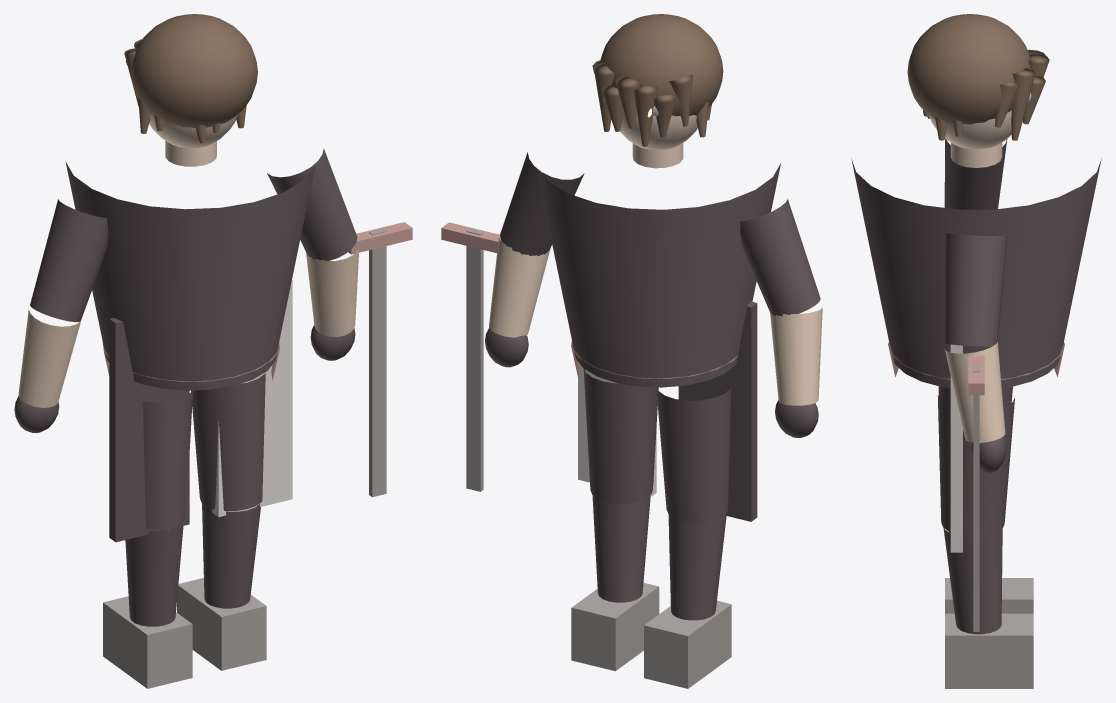
File: adeline-procedural-v1.glb
3 renders of one model, left to right at view 1: azimuth 30°, elevation 25°; view 2: azimuth 150°, elevation 25°; view 3: azimuth 270°, elevation 25°, orthographic. The views are drawn at different scales.
Visible parts, largest first — view 1: Outfit_Torso, Hair_Cap, Body_Thigh_R, Outfit_CoatTail_L, Body_UpperArm_L, Body_Thigh_L, Outfit_Boot_L, Outfit_CoatTail_R, Outfit_Boot_R, Body_Shin_R, Body_Shin_L, Weapon_SwordBlade (+8 smaller); view 2: Outfit_Torso, Body_Thigh_L, Body_Thigh_R, Hair_Cap, Outfit_CoatTail_L, Body_UpperArm_L, Outfit_Boot_L, Outfit_Boot_R, Body_Shin_R, Body_Shin_L, Weapon_SwordBlade, Body_Forearm_L (+14 smaller); view 3: Outfit_Torso, Hair_Cap, Body_UpperArm_R, Outfit_Boot_R, Body_Thigh_R, Body_Shin_R, Body_Forearm_R, Body_UpperArm_L, Outfit_CoatTail_R, Weapon_SwordBlade, Body_Head, Outfit_Boot_L (+8 smaller).
Part boxes in pixels (x1,y1,x2,y2): Outfit_Torso: (65,161,314,390); Hair_Cap: (131,14,257,127); Body_Thigh_R: (191,372,265,510); Outfit_CoatTail_L: (109,318,189,542); Body_UpperArm_L: (30,199,107,322); Body_Thigh_L: (142,390,192,529); Outfit_Boot_L: (103,596,192,688); Outfit_CoatTail_R: (212,280,292,516); Outfit_Boot_R: (177,578,266,670); Body_Shin_R: (202,503,260,608); Body_Shin_L: (125,523,183,626); Weapon_SwordBlade: (369,228,386,497); Outfit_Torso: (536,163,780,387); Body_Thigh_L: (656,387,731,522); Body_Thigh_R: (583,369,658,503); Hair_Cap: (600,14,723,116); Outfit_CoatTail_L: (678,301,757,521); Body_UpperArm_L: (740,199,820,316); Outfit_Boot_L: (644,600,731,688); Outfit_Boot_R: (571,583,659,671); Body_Shin_R: (592,495,650,602); Body_Shin_L: (668,514,726,620); Weapon_SwordBlade: (466,229,483,491); Body_Forearm_L: (770,307,822,405); Outfit_Torso: (851,158,1101,387); Hair_Cap: (907,14,1030,124); Body_UpperArm_R: (944,232,1007,346); Outfit_Boot_R: (945,613,1033,688); Body_Thigh_R: (937,395,1014,536); Body_Shin_R: (943,527,1002,634); Body_Forearm_R: (945,342,1005,442); Body_UpperArm_L: (944,138,1007,209); Outfit_CoatTail_R: (950,344,962,552); Weapon_SwordBlade: (973,364,979,631); Body_Head: (928,110,1011,149); Outfit_Boot_L: (945,578,1033,613).
Size of the model in its own units: 1.24 by 1.98 by 0.7029.
